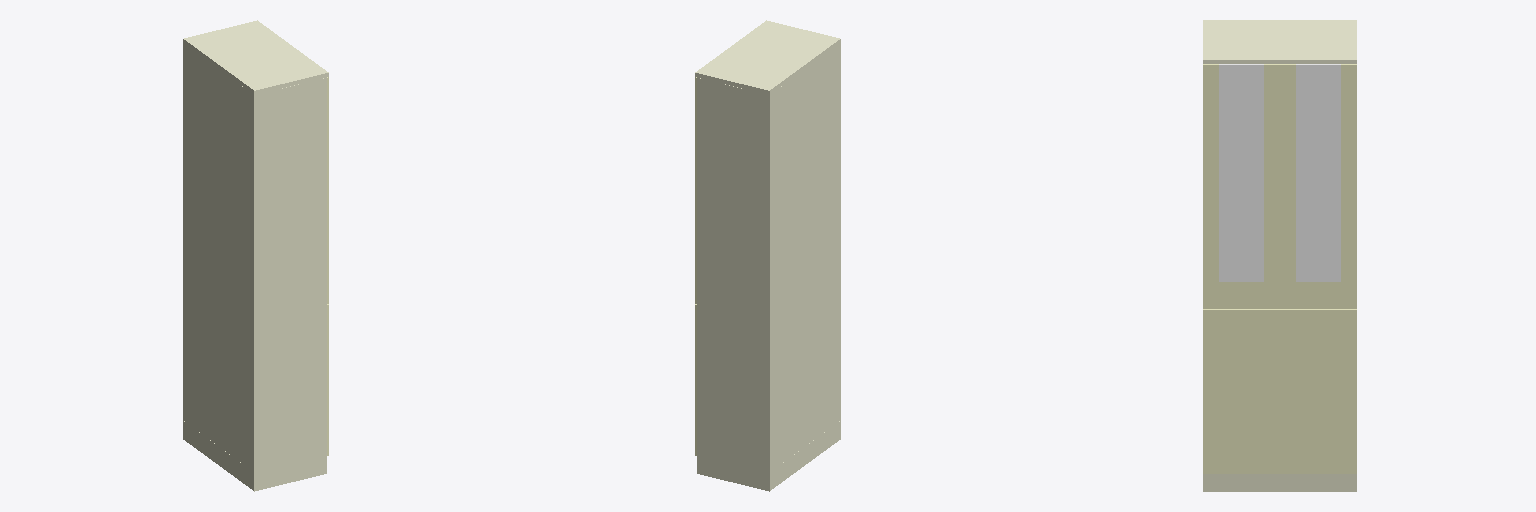
The robot description file, URDF, robot "room73b2-cupboard-right_fixed":
<?xml version="1.0"?>
<robot name="room73b2-cupboard-right_fixed"
       xmlns:xi="http://www.w3.org/2001/XInclude"
       >
  <gazebo>
    <static>false</static>
  </gazebo>
  <link name="ROOT_link">
    <visual>
      <origin xyz="0 0 0" rpy="0 -0 0"/>
      <geometry>
        <mesh filename="model://room73b2-cupboard-right/meshes/ROOT_link_mesh.dae" scale="1 1 1" />
      </geometry>
    </visual>
    <collision>
      <origin xyz="0 0 0" rpy="0 -0 0"/>
      <geometry>
        <mesh filename="model://room73b2-cupboard-right/meshes/ROOT_link_mesh.dae" scale="1 1 1" />
      </geometry>
    </collision>
    <inertial>
      <mass value="0.001" />
      <origin xyz="0 0 0" rpy="0 -0 0"/>
      <inertia ixx="1e-03" ixy="0" ixz="0" iyy="1e-03" iyz="0" izz="1e-03"/>
    </inertial>
  </link>
  <gazebo reference="ROOT_link">
    <mu1>0.9</mu1>
    <mu2>0.9</mu2>
  </gazebo>
  <link name="ROOM73B2-CUPBOARD-RIGHT-BODYSET2_link">
    <visual>
      <origin xyz="0.171 0.288 0.08" rpy="0 -0 0"/>
      <geometry>
        <mesh filename="model://room73b2-cupboard-right/meshes/ROOM73B2-CUPBOARD-RIGHT-BODYSET2_link_mesh.dae" scale="1 1 1" />
      </geometry>
    </visual>
    <collision>
      <origin xyz="0.171 0.288 0.08" rpy="0 -0 0"/>
      <geometry>
        <mesh filename="model://room73b2-cupboard-right/meshes/ROOM73B2-CUPBOARD-RIGHT-BODYSET2_link_mesh.dae" scale="1 1 1" />
      </geometry>
    </collision>
    <inertial>
      <mass value="0.001" />
      <origin xyz="0 0 0" rpy="0 -0 0"/>
      <inertia ixx="1e-03" ixy="0" ixz="0" iyy="1e-03" iyz="0" izz="1e-03"/>
    </inertial>
  </link>
  <gazebo reference="ROOM73B2-CUPBOARD-RIGHT-BODYSET2_link">
    <mu1>0.9</mu1>
    <mu2>0.9</mu2>
  </gazebo>
  <link name="ROOM73B2-CUPBOARD-RIGHT-BODYSET3_link">
    <visual>
      <origin xyz="0.171 -0.288 0.08" rpy="0 -0 0"/>
      <geometry>
        <mesh filename="model://room73b2-cupboard-right/meshes/ROOM73B2-CUPBOARD-RIGHT-BODYSET3_link_mesh.dae" scale="1 1 1" />
      </geometry>
    </visual>
    <collision>
      <origin xyz="0.171 -0.288 0.08" rpy="0 -0 0"/>
      <geometry>
        <mesh filename="model://room73b2-cupboard-right/meshes/ROOM73B2-CUPBOARD-RIGHT-BODYSET3_link_mesh.dae" scale="1 1 1" />
      </geometry>
    </collision>
    <inertial>
      <mass value="0.001" />
      <origin xyz="0 0 0" rpy="0 -0 0"/>
      <inertia ixx="1e-03" ixy="0" ixz="0" iyy="1e-03" iyz="0" izz="1e-03"/>
    </inertial>
  </link>
  <gazebo reference="ROOM73B2-CUPBOARD-RIGHT-BODYSET3_link">
    <mu1>0.9</mu1>
    <mu2>0.9</mu2>
  </gazebo>
  <link name="ROOM73B2-CUPBOARD-RIGHT-BODYSET5_link">
    <visual>
      <origin xyz="0.171 0.288 0.885" rpy="0 -0 0"/>
      <geometry>
        <mesh filename="model://room73b2-cupboard-right/meshes/ROOM73B2-CUPBOARD-RIGHT-BODYSET5_link_mesh.dae" scale="1 1 1" />
      </geometry>
    </visual>
    <collision>
      <origin xyz="0.171 0.288 0.885" rpy="0 -0 0"/>
      <geometry>
        <mesh filename="model://room73b2-cupboard-right/meshes/ROOM73B2-CUPBOARD-RIGHT-BODYSET5_link_mesh.dae" scale="1 1 1" />
      </geometry>
    </collision>
    <inertial>
      <mass value="0.001" />
      <origin xyz="0 0 0" rpy="0 -0 0"/>
      <inertia ixx="1e-03" ixy="0" ixz="0" iyy="1e-03" iyz="0" izz="1e-03"/>
    </inertial>
  </link>
  <gazebo reference="ROOM73B2-CUPBOARD-RIGHT-BODYSET5_link">
    <mu1>0.9</mu1>
    <mu2>0.9</mu2>
  </gazebo>
  <link name="ROOM73B2-CUPBOARD-RIGHT-BODYSET6_link">
    <visual>
      <origin xyz="0.171 -0.288 0.885" rpy="0 -0 0"/>
      <geometry>
        <mesh filename="model://room73b2-cupboard-right/meshes/ROOM73B2-CUPBOARD-RIGHT-BODYSET6_link_mesh.dae" scale="1 1 1" />
      </geometry>
    </visual>
    <collision>
      <origin xyz="0.171 -0.288 0.885" rpy="0 -0 0"/>
      <geometry>
        <mesh filename="model://room73b2-cupboard-right/meshes/ROOM73B2-CUPBOARD-RIGHT-BODYSET6_link_mesh.dae" scale="1 1 1" />
      </geometry>
    </collision>
    <inertial>
      <mass value="0.001" />
      <origin xyz="0 0 0" rpy="0 -0 0"/>
      <inertia ixx="1e-03" ixy="0" ixz="0" iyy="1e-03" iyz="0" izz="1e-03"/>
    </inertial>
  </link>
  <gazebo reference="ROOM73B2-CUPBOARD-RIGHT-BODYSET6_link">
    <mu1>0.9</mu1>
    <mu2>0.9</mu2>
  </gazebo>
  <link name="ROOM73B2-CUPBOARD-RIGHT-BODYSET4_link">
    <visual>
      <origin xyz="0 0 0.822" rpy="0 -0 0"/>
      <geometry>
        <mesh filename="model://room73b2-cupboard-right/meshes/ROOM73B2-CUPBOARD-RIGHT-BODYSET4_link_mesh.dae" scale="1 1 1" />
      </geometry>
    </visual>
    <collision>
      <origin xyz="0 0 0.822" rpy="0 -0 0"/>
      <geometry>
        <mesh filename="model://room73b2-cupboard-right/meshes/ROOM73B2-CUPBOARD-RIGHT-BODYSET4_link_mesh.dae" scale="1 1 1" />
      </geometry>
    </collision>
    <inertial>
      <mass value="0.001" />
      <origin xyz="0 0 0" rpy="0 -0 0"/>
      <inertia ixx="1e-03" ixy="0" ixz="0" iyy="1e-03" iyz="0" izz="1e-03"/>
    </inertial>
  </link>
  <gazebo reference="ROOM73B2-CUPBOARD-RIGHT-BODYSET4_link">
    <mu1>0.9</mu1>
    <mu2>0.9</mu2>
  </gazebo>
  <joint name="DOOR-LOWER-LEFT" type="revolute">
    <parent link="ROOT_link"/>
    <child  link="ROOM73B2-CUPBOARD-RIGHT-BODYSET2_link"/>
    <origin xyz="0.171 0.288 0.08" rpy="0 -0 0 "/>
    <axis   xyz="0 0 1"/>
    <limit lower="0" upper="1.5708" effort="100" velocity="0.5" />
    <dynamics damping="0.2" friction="0" />
  </joint>
  <transmission type="pr2_mechanism_model/SimpleTransmission" name="DOOR-LOWER-LEFT_trans" >
    <actuator name="DOOR-LOWER-LEFT_motor" />
    <joint name="DOOR-LOWER-LEFT" />
    <mechanicalReduction>1</mechanicalReduction>
  </transmission>
  <gazebo reference="DOOR-LOWER-LEFT">
    <cfmDamping>0.4</cfmDamping>
  </gazebo>
  <joint name="DOOR-LOWER-RIGHT" type="revolute">
    <parent link="ROOT_link"/>
    <child  link="ROOM73B2-CUPBOARD-RIGHT-BODYSET3_link"/>
    <origin xyz="0.171 -0.288 0.08" rpy="0 -0 0 "/>
    <axis   xyz="0 0 -1"/>
    <limit lower="0" upper="1.5708" effort="100" velocity="0.5" />
    <dynamics damping="0.2" friction="0" />
  </joint>
  <transmission type="pr2_mechanism_model/SimpleTransmission" name="DOOR-LOWER-RIGHT_trans" >
    <actuator name="DOOR-LOWER-RIGHT_motor" />
    <joint name="DOOR-LOWER-RIGHT" />
    <mechanicalReduction>1</mechanicalReduction>
  </transmission>
  <gazebo reference="DOOR-LOWER-RIGHT">
    <cfmDamping>0.4</cfmDamping>
  </gazebo>
  <joint name="DOOR-UPPER-LEFT" type="revolute">
    <parent link="ROOT_link"/>
    <child  link="ROOM73B2-CUPBOARD-RIGHT-BODYSET5_link"/>
    <origin xyz="0.171 0.288 0.885" rpy="0 -0 0 "/>
    <axis   xyz="0 0 1"/>
    <limit lower="0" upper="1.5708" effort="100" velocity="0.5" />
    <dynamics damping="0.2" friction="0" />
  </joint>
  <transmission type="pr2_mechanism_model/SimpleTransmission" name="DOOR-UPPER-LEFT_trans" >
    <actuator name="DOOR-UPPER-LEFT_motor" />
    <joint name="DOOR-UPPER-LEFT" />
    <mechanicalReduction>1</mechanicalReduction>
  </transmission>
  <gazebo reference="DOOR-UPPER-LEFT">
    <cfmDamping>0.4</cfmDamping>
  </gazebo>
  <joint name="DOOR-UPPER-RIGHT" type="revolute">
    <parent link="ROOT_link"/>
    <child  link="ROOM73B2-CUPBOARD-RIGHT-BODYSET6_link"/>
    <origin xyz="0.171 -0.288 0.885" rpy="0 -0 0 "/>
    <axis   xyz="0 0 -1"/>
    <limit lower="0" upper="1.5708" effort="100" velocity="0.5" />
    <dynamics damping="0.2" friction="0" />
  </joint>
  <transmission type="pr2_mechanism_model/SimpleTransmission" name="DOOR-UPPER-RIGHT_trans" >
    <actuator name="DOOR-UPPER-RIGHT_motor" />
    <joint name="DOOR-UPPER-RIGHT" />
    <mechanicalReduction>1</mechanicalReduction>
  </transmission>
  <gazebo reference="DOOR-UPPER-RIGHT">
    <cfmDamping>0.4</cfmDamping>
  </gazebo>
  <joint name="DRAWER" type="prismatic">
    <parent link="ROOT_link"/>
    <child  link="ROOM73B2-CUPBOARD-RIGHT-BODYSET4_link"/>
    <origin xyz="0 0 0.822" rpy="0 -0 0 "/>
    <axis   xyz="1 0 0"/>
    <limit lower="0" upper="0.353" effort="100" velocity="0.01" />
    <dynamics damping="0.2" friction="0" />
  </joint>
  <transmission type="pr2_mechanism_model/SimpleTransmission" name="DRAWER_trans" >
    <actuator name="DRAWER_motor" />
    <joint name="DRAWER" />
    <mechanicalReduction>1</mechanicalReduction>
  </transmission>
  <gazebo reference="DRAWER">
    <cfmDamping>0.4</cfmDamping>
  </gazebo>
  <!-- Used for fixing robot to Gazebo 'base_link' -->
  <link name="world"/>
  <joint name="fixed" type="fixed">
    <parent link="world"/>
    <child link="ROOT_link"/>
  </joint>
</robot>

--- Facts derived from the render (not from the file) ---
The picture shows the robot from 3 angles, left to right: view 1: azimuth 30°, elevation 25°; view 2: azimuth 150°, elevation 25°; view 3: azimuth 270°, elevation 25°; orthographic projection.
Model room73b2-cupboard-right_fixed with 7 links and 6 joints (4 revolute, 1 prismatic, 1 fixed), rooted at world, posed every joint at zero.
Visible links, largest first — view 1: ROOT_link; view 2: ROOT_link; view 3: ROOM73B2-CUPBOARD-RIGHT-BODYSET5_link, ROOM73B2-CUPBOARD-RIGHT-BODYSET6_link, ROOM73B2-CUPBOARD-RIGHT-BODYSET2_link, ROOM73B2-CUPBOARD-RIGHT-BODYSET3_link, ROOT_link, ROOM73B2-CUPBOARD-RIGHT-BODYSET4_link.
Link boxes in pixels (bbox=[...]): ROOT_link: bbox=[183, 20, 328, 491]; ROOT_link: bbox=[695, 20, 840, 491]; ROOM73B2-CUPBOARD-RIGHT-BODYSET5_link: bbox=[1280, 64, 1356, 281]; ROOM73B2-CUPBOARD-RIGHT-BODYSET6_link: bbox=[1203, 64, 1279, 281]; ROOM73B2-CUPBOARD-RIGHT-BODYSET2_link: bbox=[1280, 309, 1356, 473]; ROOM73B2-CUPBOARD-RIGHT-BODYSET3_link: bbox=[1203, 309, 1279, 473]; ROOT_link: bbox=[1203, 20, 1356, 491]; ROOM73B2-CUPBOARD-RIGHT-BODYSET4_link: bbox=[1203, 282, 1356, 308].
Size in the robot's own frame: 0.353 by 0.587 by 1.82 metres.
Meshes: 6 distinct files referenced, 6 mesh visuals loaded (6 Collada DAE).